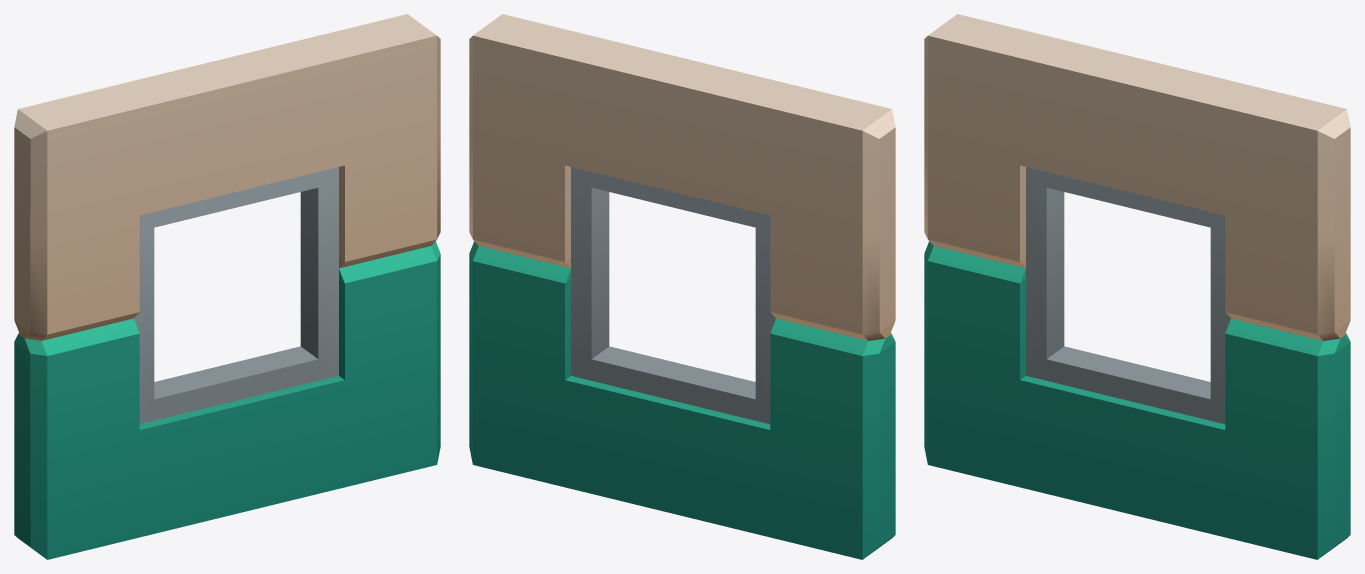
Rendered from wall_window_open.obj.
3 renders of one model, left to right at view 1: azimuth 30°, elevation 25°; view 2: azimuth 150°, elevation 25°; view 3: azimuth 330°, elevation 25°, orthographic.
Parts seen in each view (by area): view 1: wall_window_open_Cube.144; view 2: wall_window_open_Cube.144; view 3: wall_window_open_Cube.144.
Boxes of the visible parts, x1=… form: wall_window_open_Cube.144: x1=14, y1=14, x2=440, y2=559; wall_window_open_Cube.144: x1=469, y1=14, x2=895, y2=559; wall_window_open_Cube.144: x1=924, y1=14, x2=1350, y2=559.
Bounding box in the file's own units: 4 × 4 × 0.5.
1 material, 1 textured.
